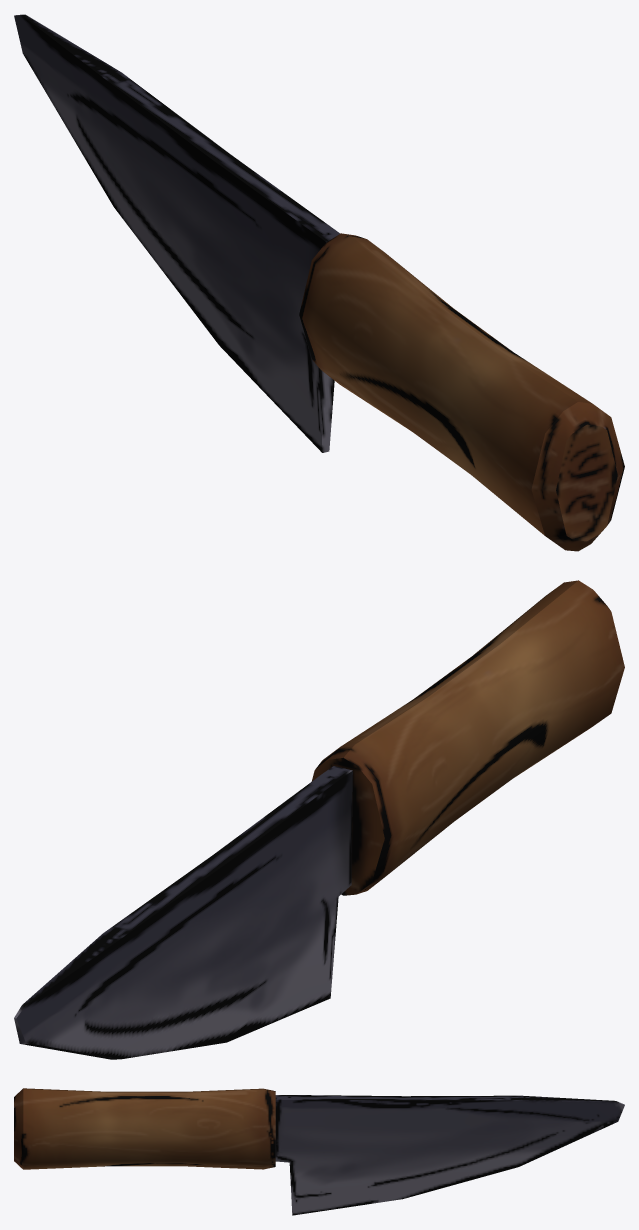
The model's file is Knife.fbx.
3 views of the same model, one above another, from view 1: azimuth 30°, elevation 25°; view 2: azimuth 150°, elevation 25°; view 3: azimuth 270°, elevation 25° (orthographic). The views are drawn at different scales.
Visible parts, largest first — view 1: Knife; view 2: Knife; view 3: Knife.
Part boxes in pixels (bbox=[...]): Knife: bbox=[14, 14, 624, 551]; Knife: bbox=[14, 580, 624, 1059]; Knife: bbox=[14, 1088, 624, 1215].
Bounding box in the file's own units: 13.47 × 143 × 32.46.
1 material, 1 textured.
